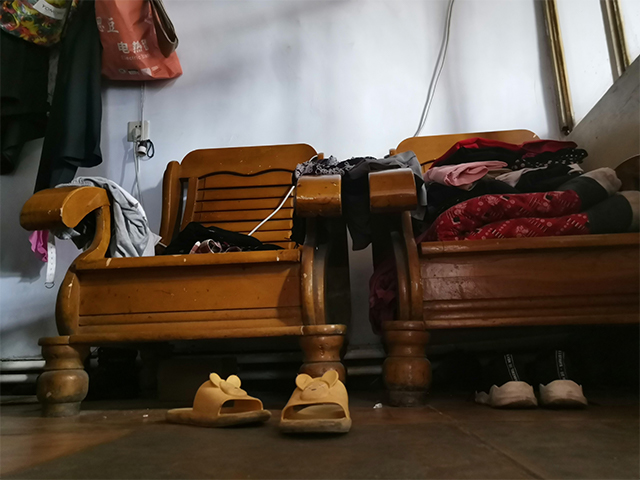slippers: (163, 371, 270, 426), (279, 372, 354, 428)
stool: (22, 132, 357, 411), (366, 127, 640, 409)
